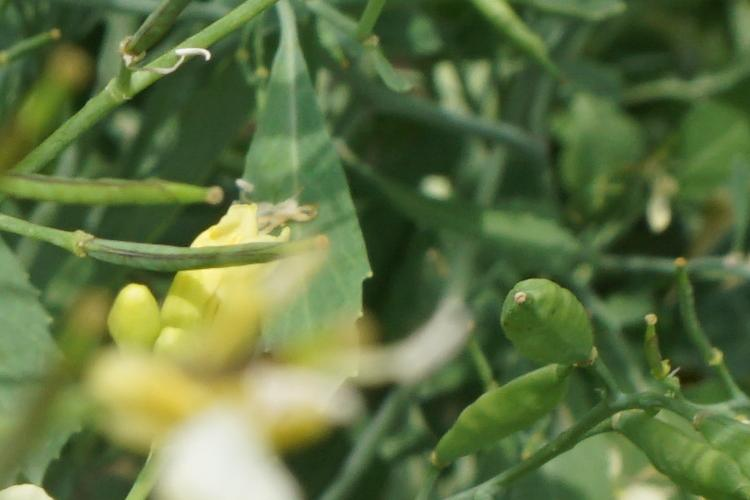bud: (96, 269, 162, 371)
pod: (399, 358, 588, 474), (9, 212, 352, 269), (33, 153, 261, 216), (493, 264, 608, 371)
